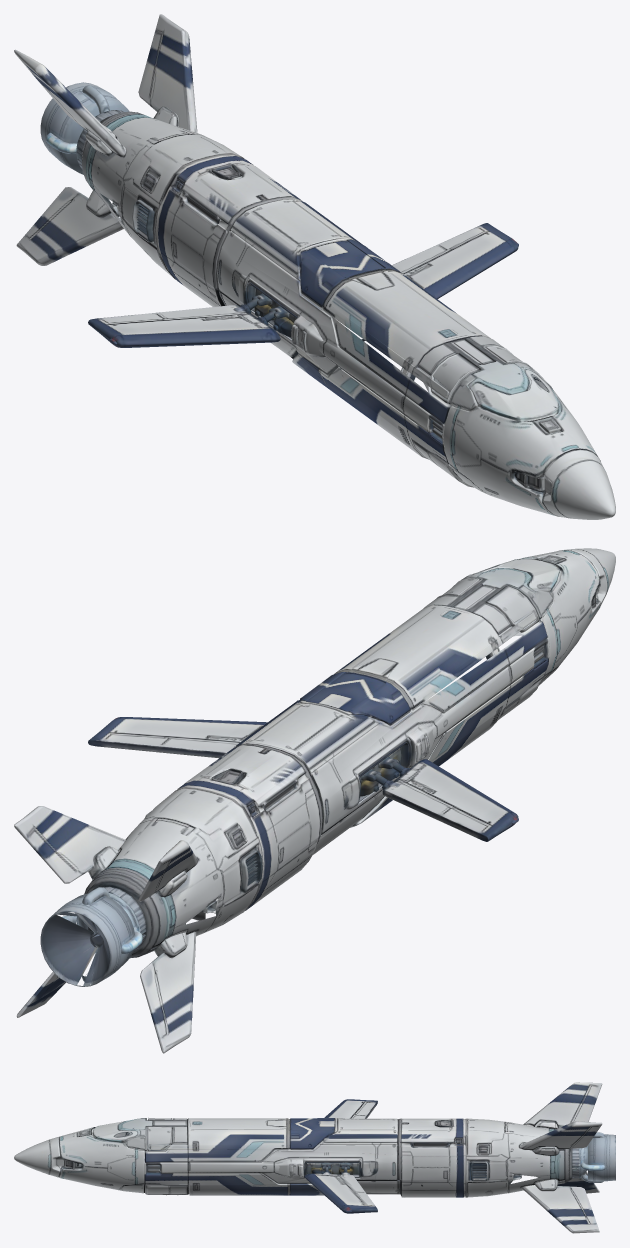
Rendered from 01_長程巡航飛彈.glb.
The picture shows the model from 3 angles, top to bottom: view 1: azimuth 30°, elevation 25°; view 2: azimuth 150°, elevation 25°; view 3: azimuth 270°, elevation 25°; orthographic projection. The views are drawn at different scales.
Visible parts, largest first — view 1: am; view 2: am; view 3: am.
Boxes of the visible parts, x1=… form: am: x1=14, y1=14, x2=615, y2=519; am: x1=14, y1=548, x2=615, y2=1053; am: x1=14, y1=1082, x2=615, y2=1233.
Bounding box in the file's own units: 0.4353 × 0.2052 × 1.
1 material, 1 textured.
